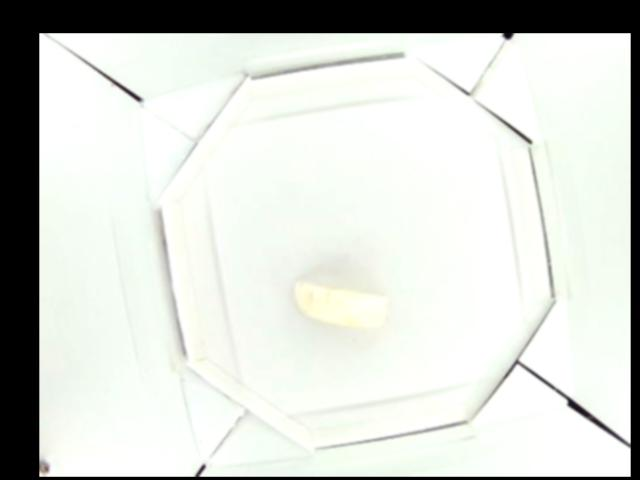Mooli: (295, 271, 385, 332)
